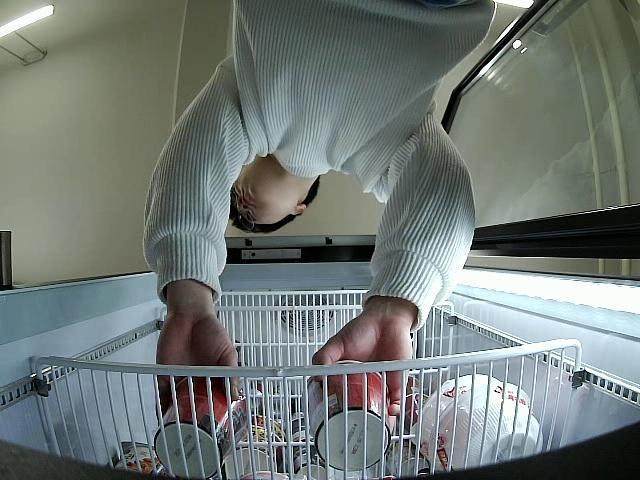02_shinRamen_S: (300, 360, 390, 471), (154, 376, 246, 477)
